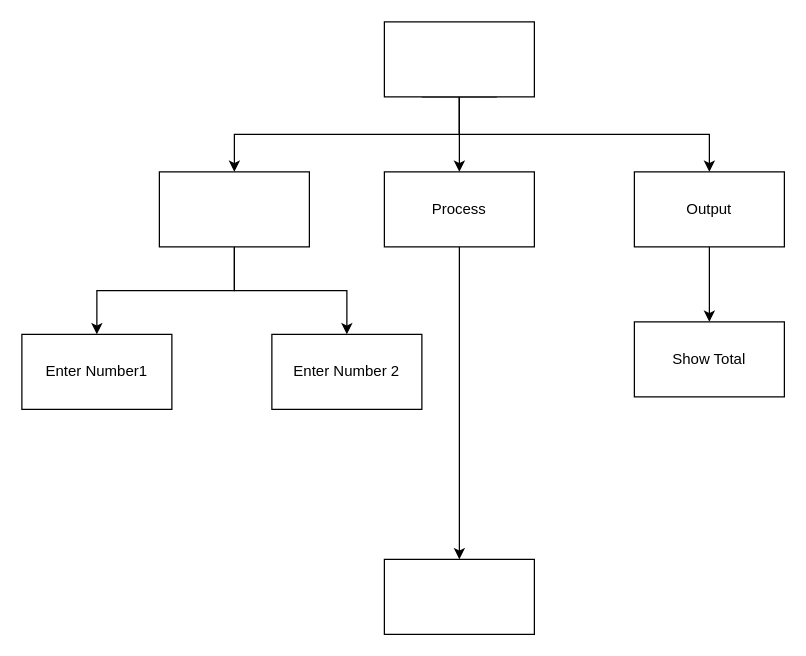
Image size: 806x656. Some labels were removed from this diagram. Each missing label, with the centre of its shape:
Calculate the total: point (458, 596)
Input: point (233, 209)
The Total number: point (458, 59)
